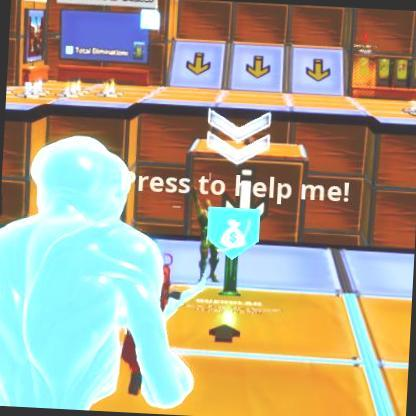person: (192, 195, 227, 293)
